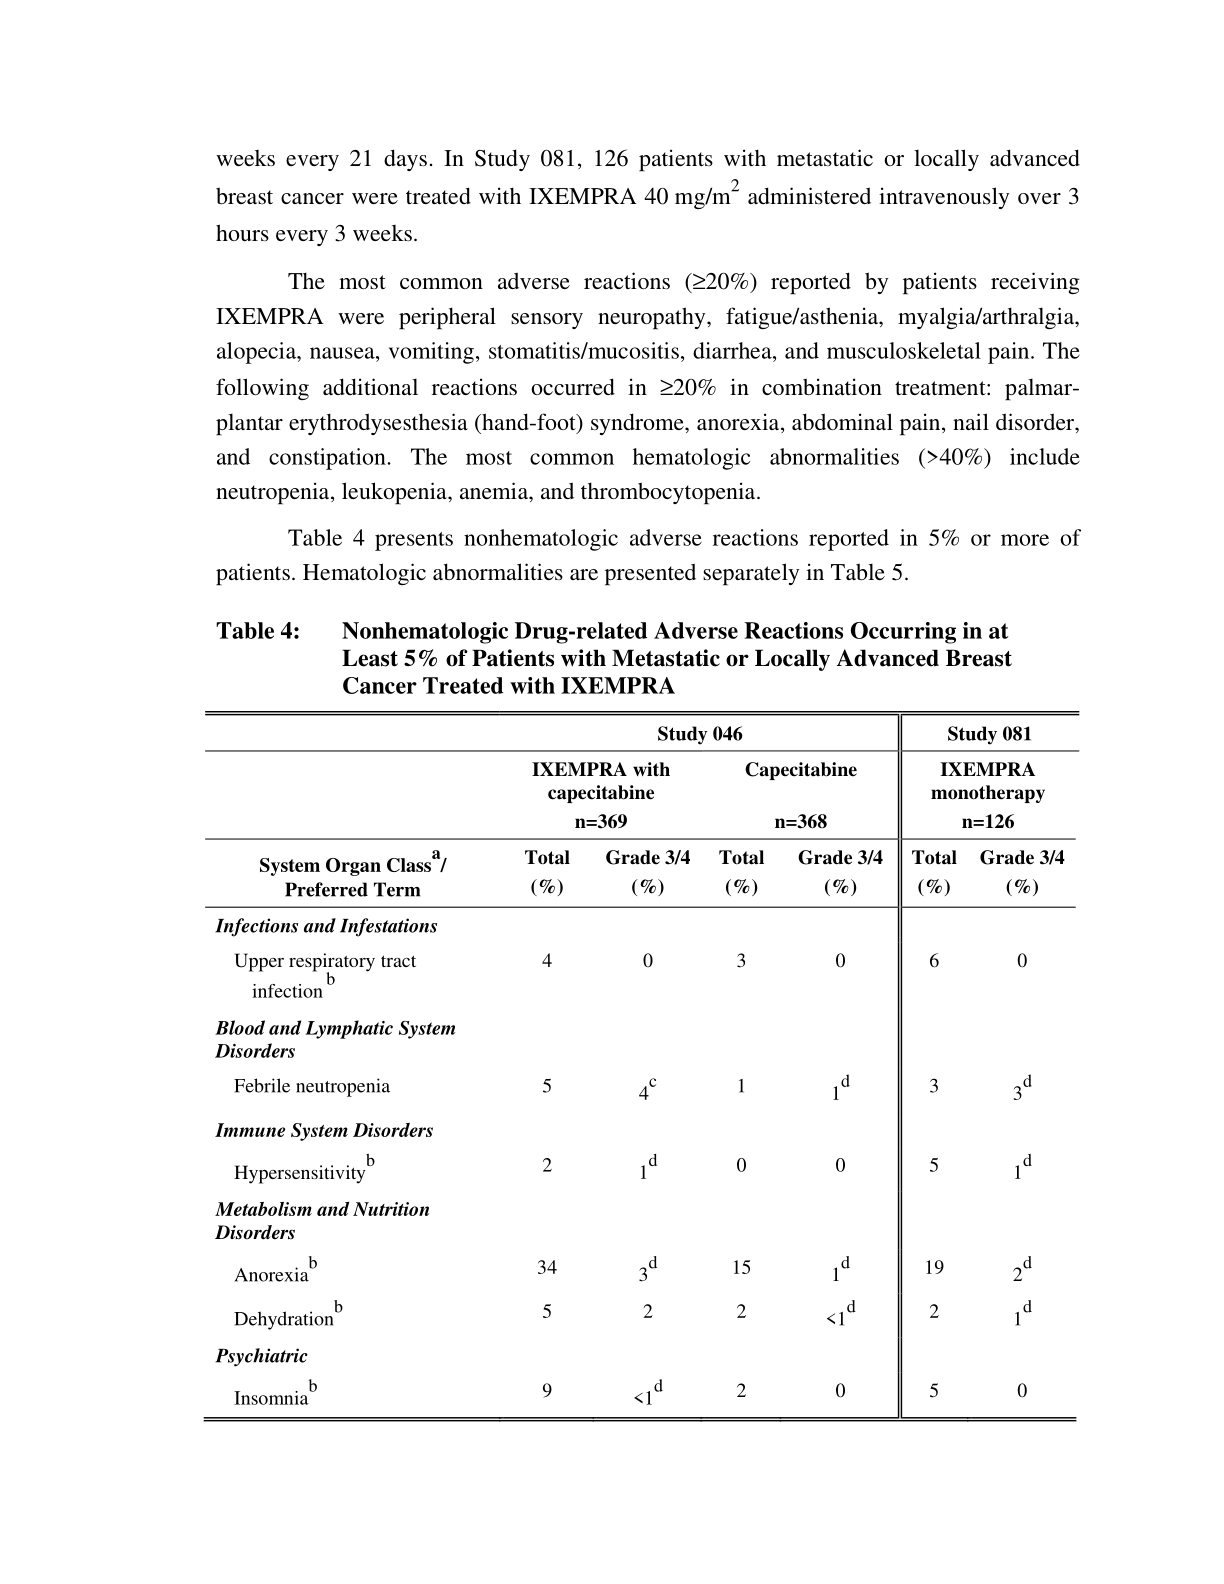partial_lined_merged_cells: (204, 708, 1080, 1425)
